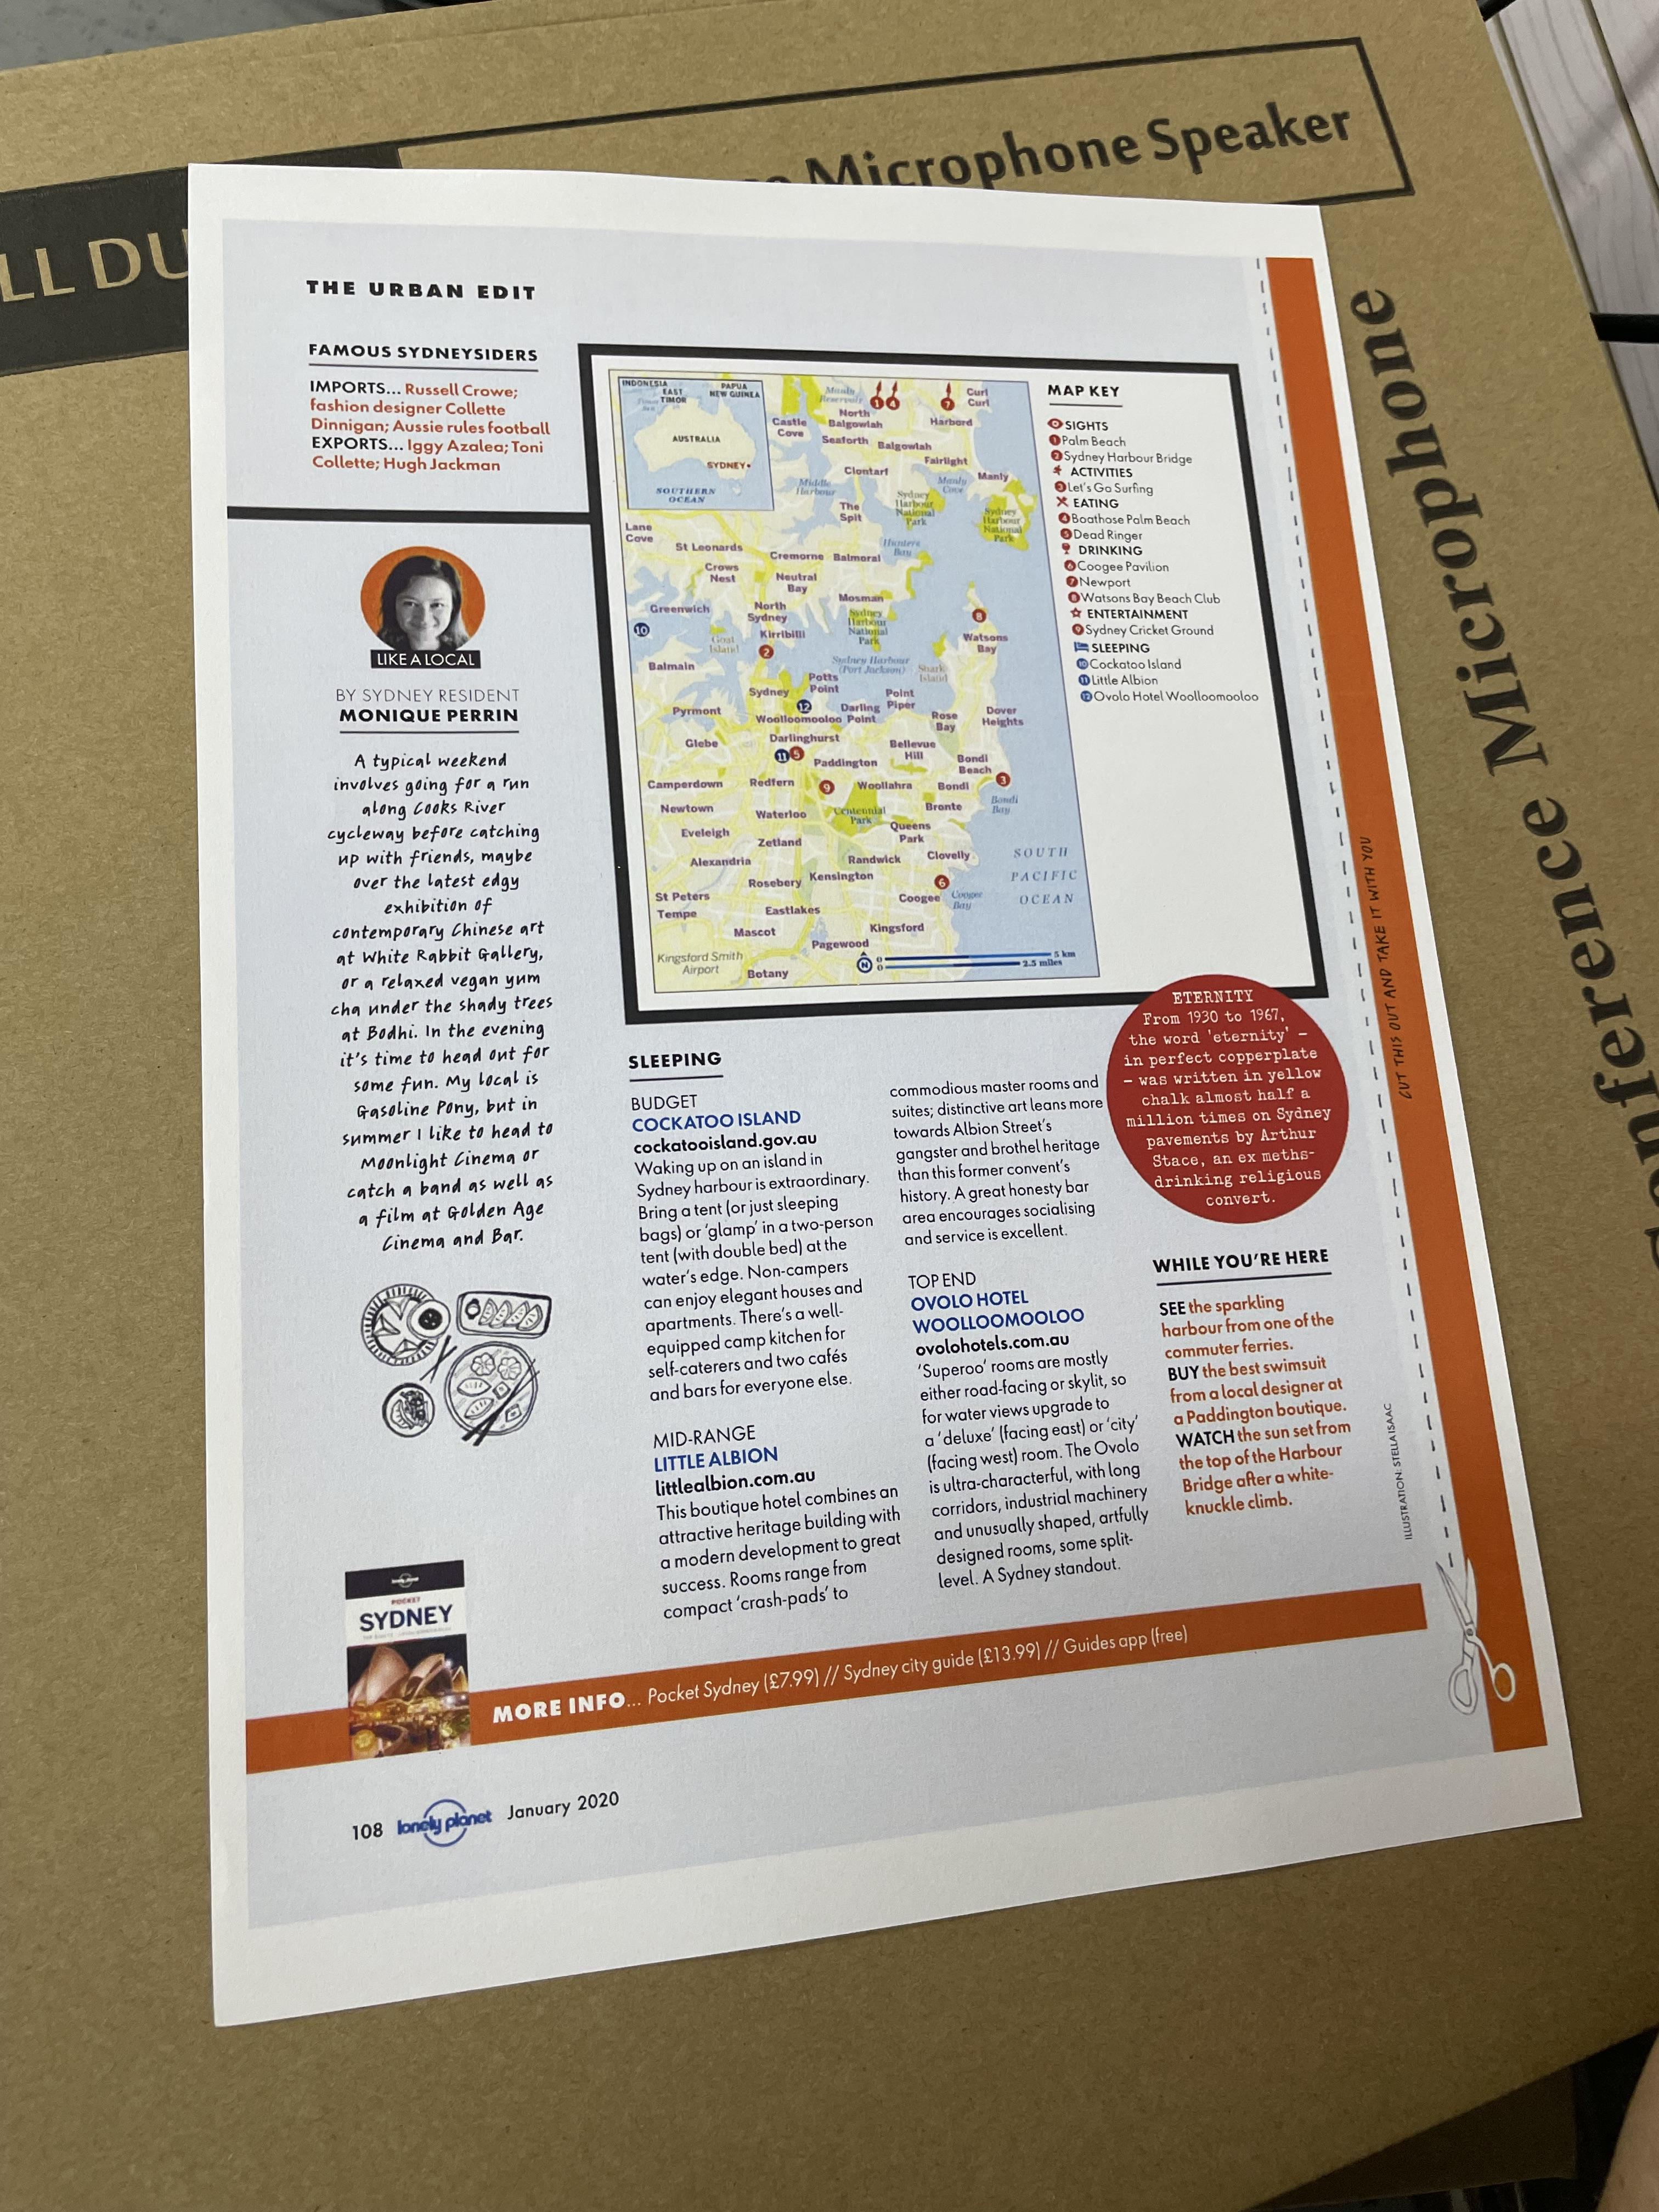paper: (91, 52, 1659, 2013)
